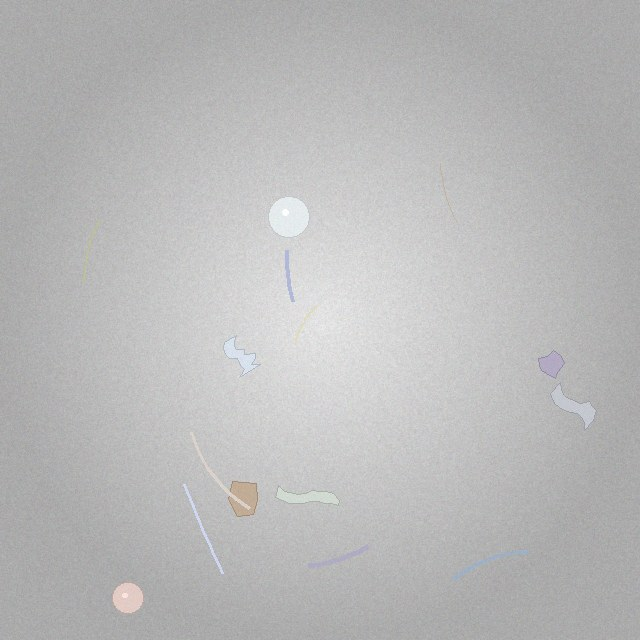fiber: (188, 429, 253, 511), (181, 481, 226, 576), (35, 372, 83, 448), (450, 548, 533, 584), (304, 541, 374, 571), (81, 218, 102, 286), (439, 162, 459, 225), (293, 305, 318, 347), (282, 246, 297, 307)
film: (551, 383, 597, 431), (224, 335, 260, 377), (276, 485, 340, 506)
fragment: (228, 481, 257, 517), (538, 351, 565, 379)
pellet: (269, 196, 310, 237), (113, 583, 144, 614)
